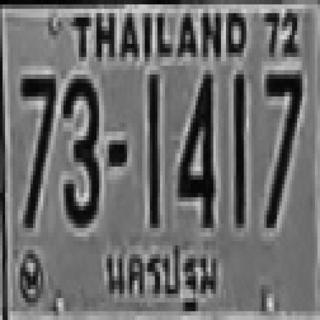N01: (231, 70, 244, 224), (146, 72, 159, 226)
N03: (62, 74, 98, 224)
N04: (175, 70, 213, 224)
N07: (264, 70, 300, 224), (19, 70, 54, 224)
P28: (101, 236, 222, 320)
